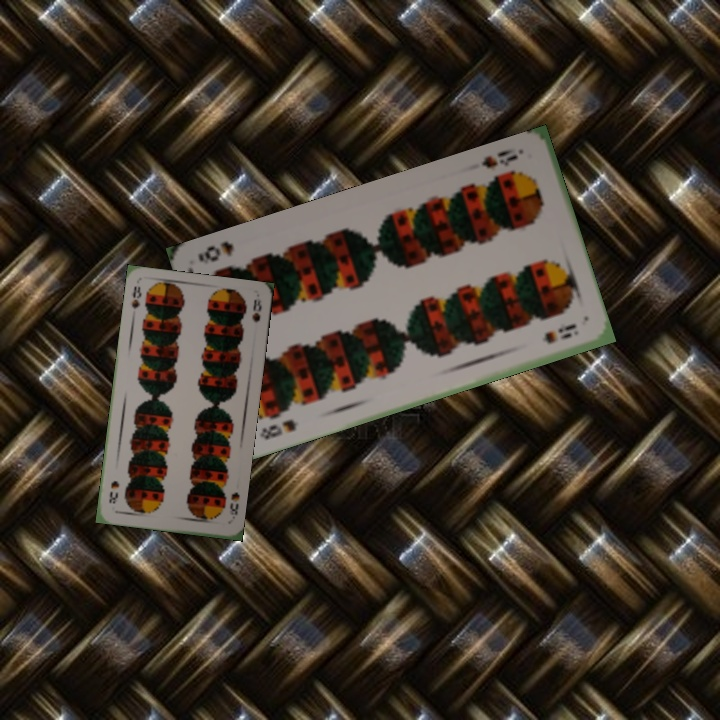S8: (255, 415, 301, 442), (478, 150, 521, 171), (224, 488, 242, 523), (127, 282, 144, 311)
